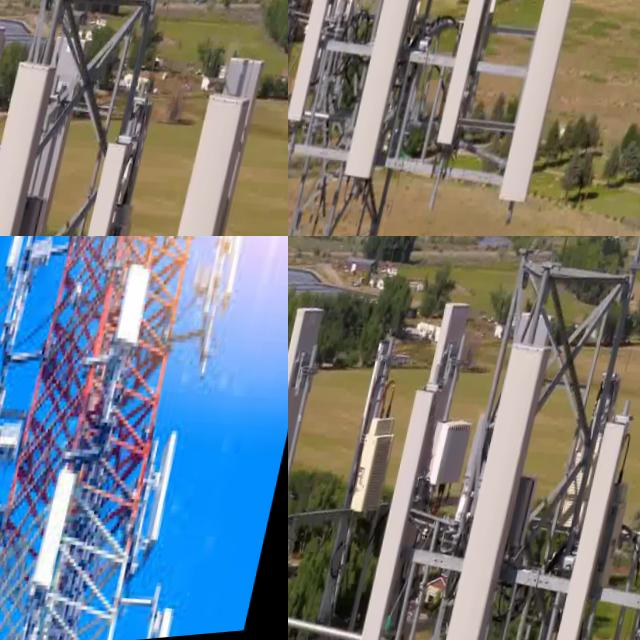GSM Antenna: (427, 338, 558, 640), (355, 382, 449, 640), (146, 52, 269, 236), (502, 0, 601, 223), (544, 420, 638, 640), (118, 89, 257, 236), (345, 0, 447, 192), (0, 28, 93, 236), (404, 298, 484, 513), (288, 294, 333, 640), (0, 50, 67, 236), (437, 0, 504, 164), (42, 132, 146, 236), (288, 0, 354, 144), (35, 467, 88, 597), (111, 264, 164, 366), (149, 437, 192, 559), (288, 0, 333, 115), (222, 236, 257, 312), (4, 236, 39, 292), (154, 603, 189, 640)
